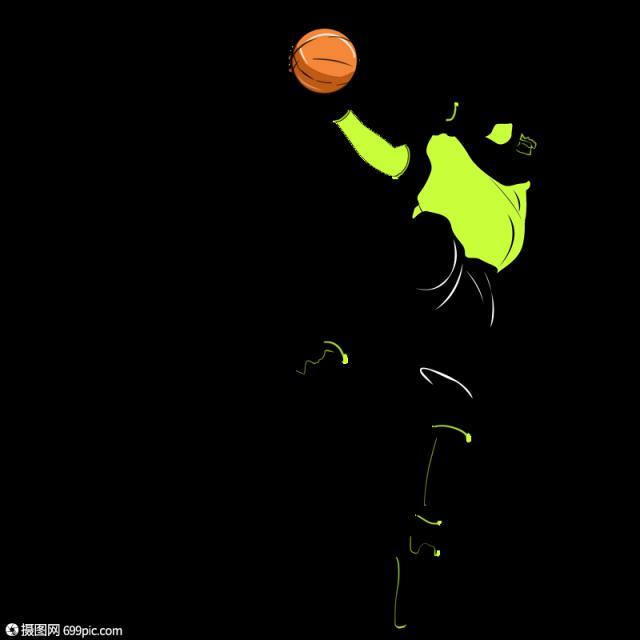rim: (294, 19, 359, 96)
